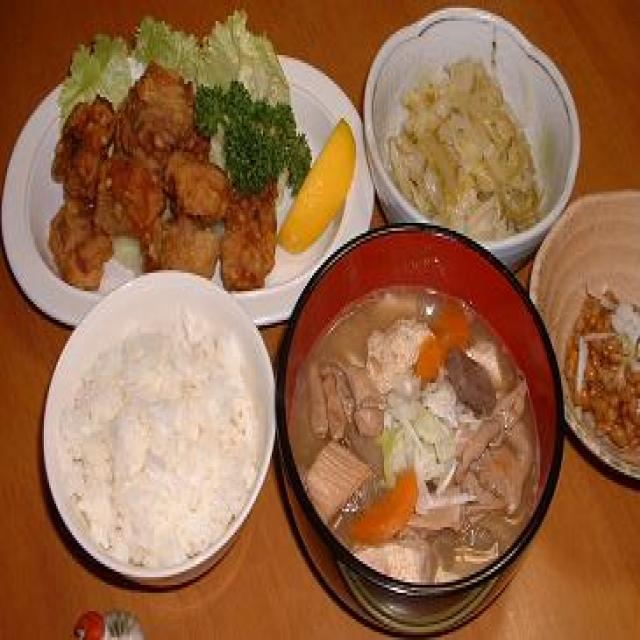米饭主食: (35, 268, 268, 590)
鸡肉料理 含炸鸡: (21, 34, 289, 317)
